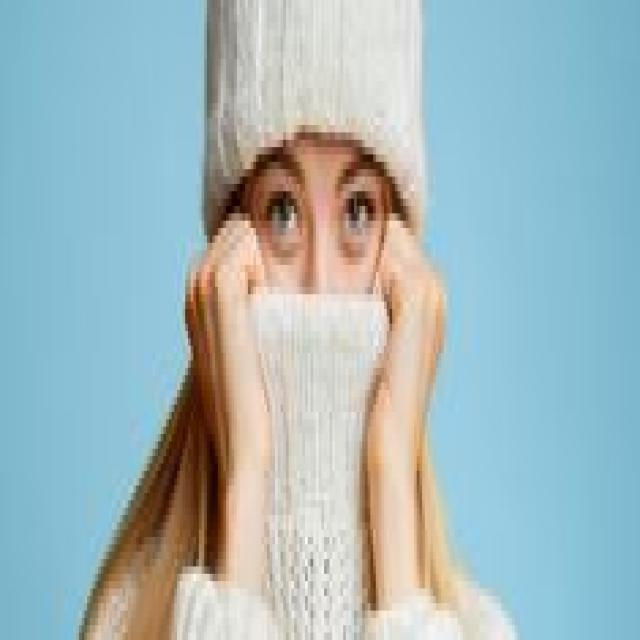8_ropa_rostro: (188, 213, 447, 640)
